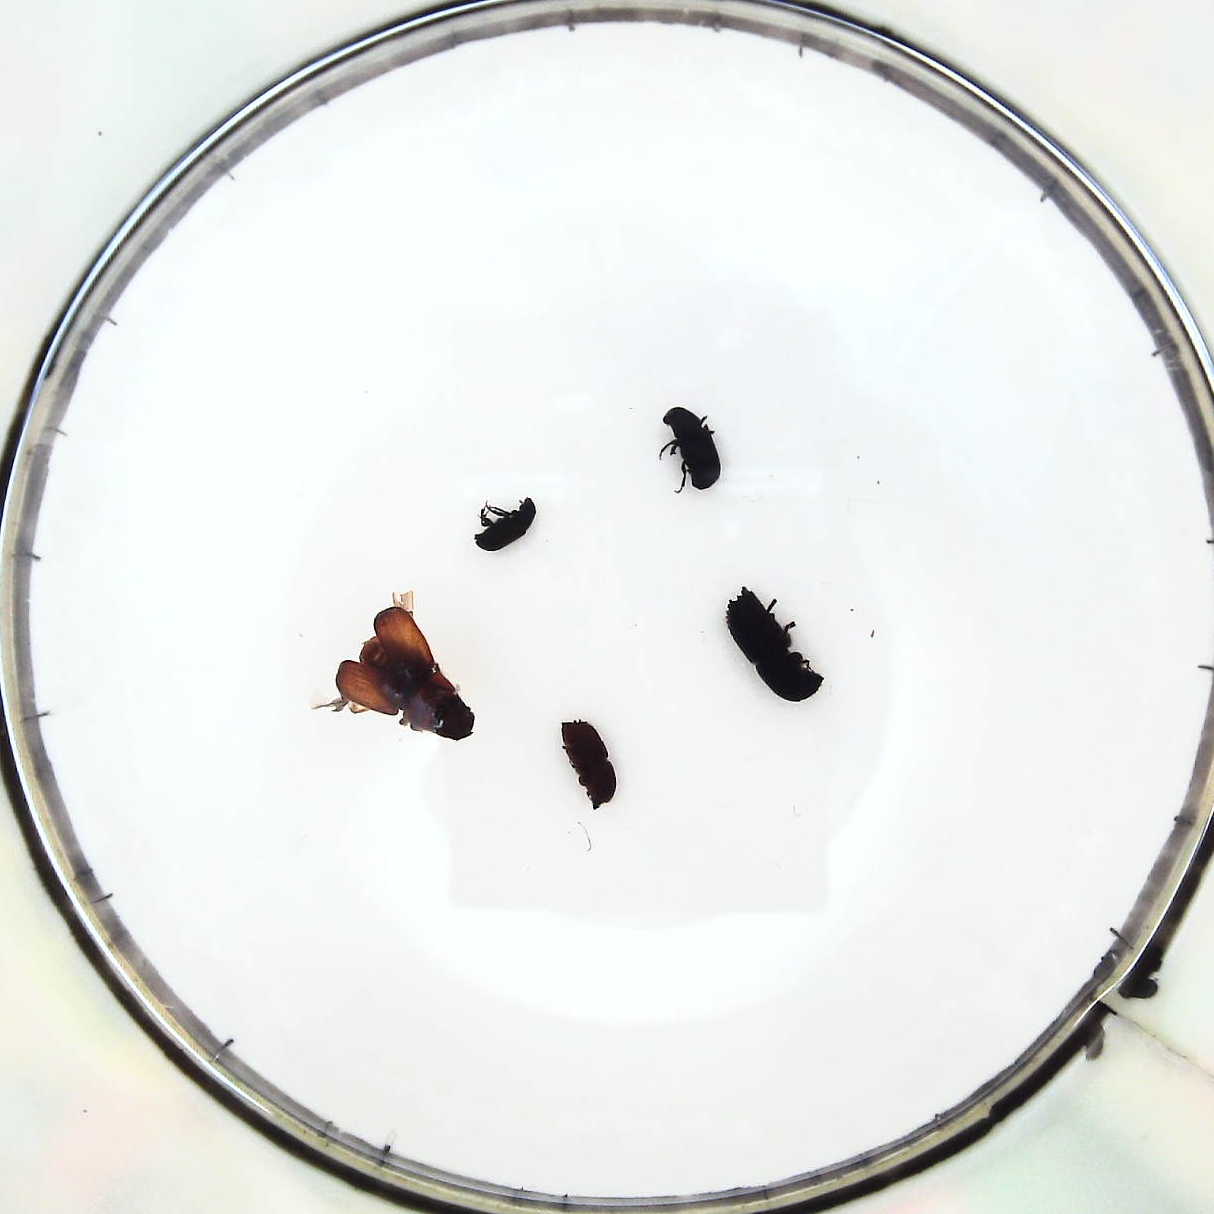Boerner: (722, 580, 822, 705)
Leconte: (325, 600, 478, 742)
Linnaeus: (559, 719, 621, 807)
armandi: (659, 405, 720, 497)
coleoptera: (476, 492, 537, 551)
